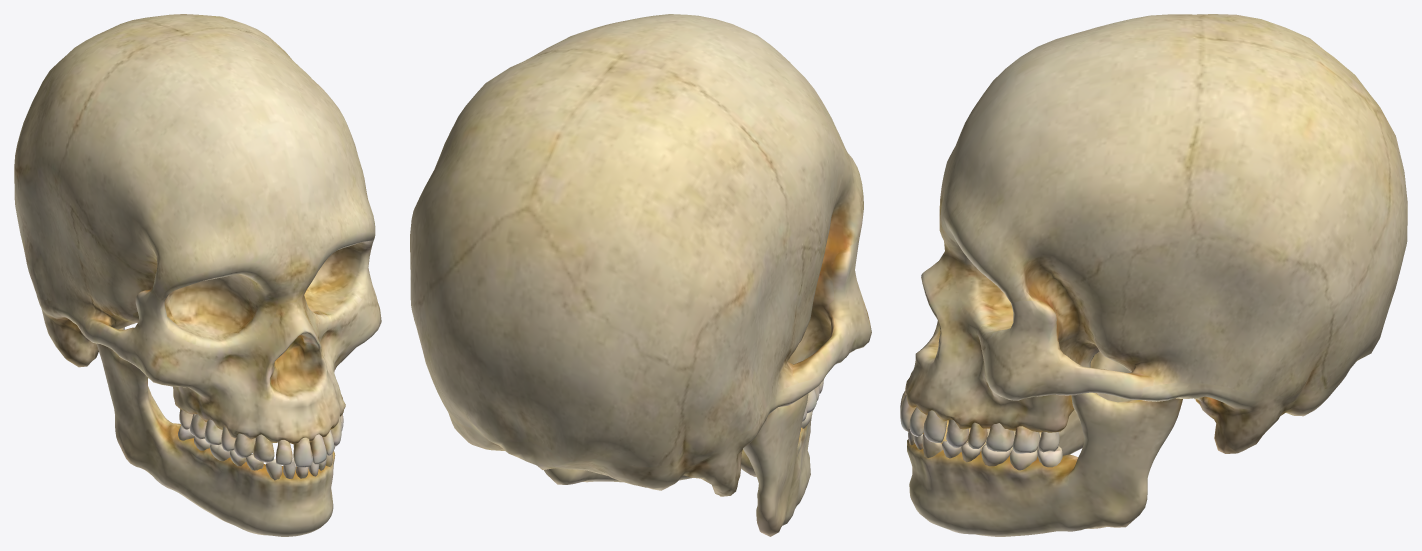
Rendered from skull.glb.
3 views of the same model, side by side, from view 1: azimuth 30°, elevation 25°; view 2: azimuth 150°, elevation 25°; view 3: azimuth 270°, elevation 25° (orthographic). The views are drawn at different scales.
Parts seen in each view (by area): view 1: Object_0; view 2: Object_0; view 3: Object_0.
Boxes of the visible parts, x1,y1,x2,y2 form: Object_0: [14, 14, 381, 536]; Object_0: [410, 14, 871, 536]; Object_0: [900, 14, 1407, 536].
Bounding box in the file's own units: 0.1319 × 0.2 × 0.1911.
Materials: 1 (1 with a texture image).
